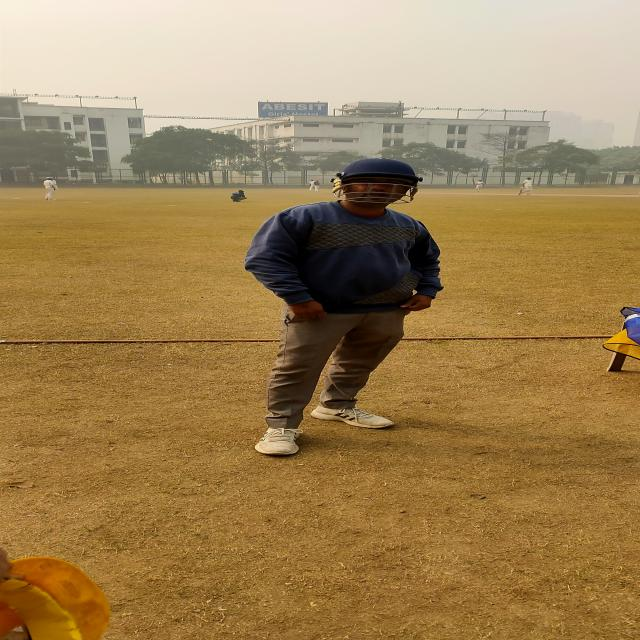unsafe: (248, 159, 446, 455)
